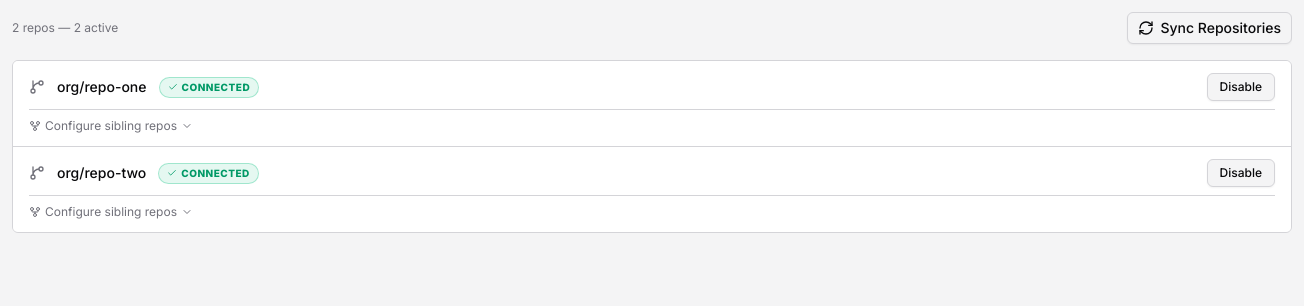
RepoListCard — cross-repo siblings selector › 4. Expanding shows checkboxes for other repos (not the current repo)
The width and height of the screenshot is (1304, 306).
// Click the first repo's sibling toggle button
Click the button "Configure sibling repos" below "org/repo-one": (111, 126) [29,118,193,134]
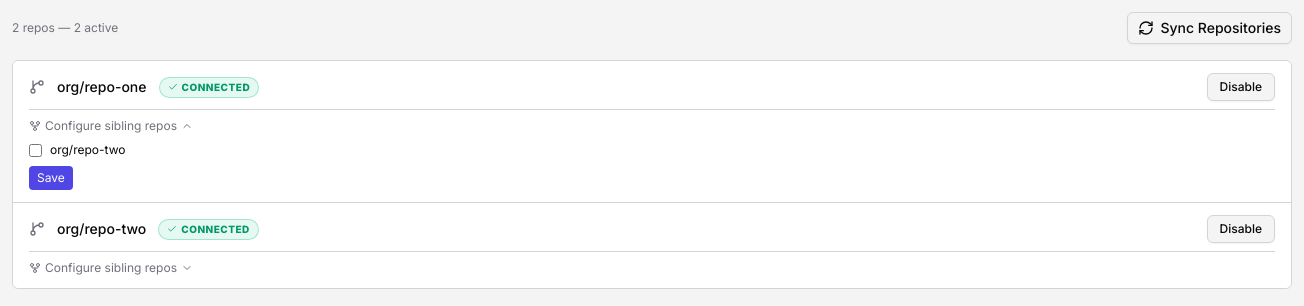
Now the number of checkboxes is 1, box [29,144,42,156]
